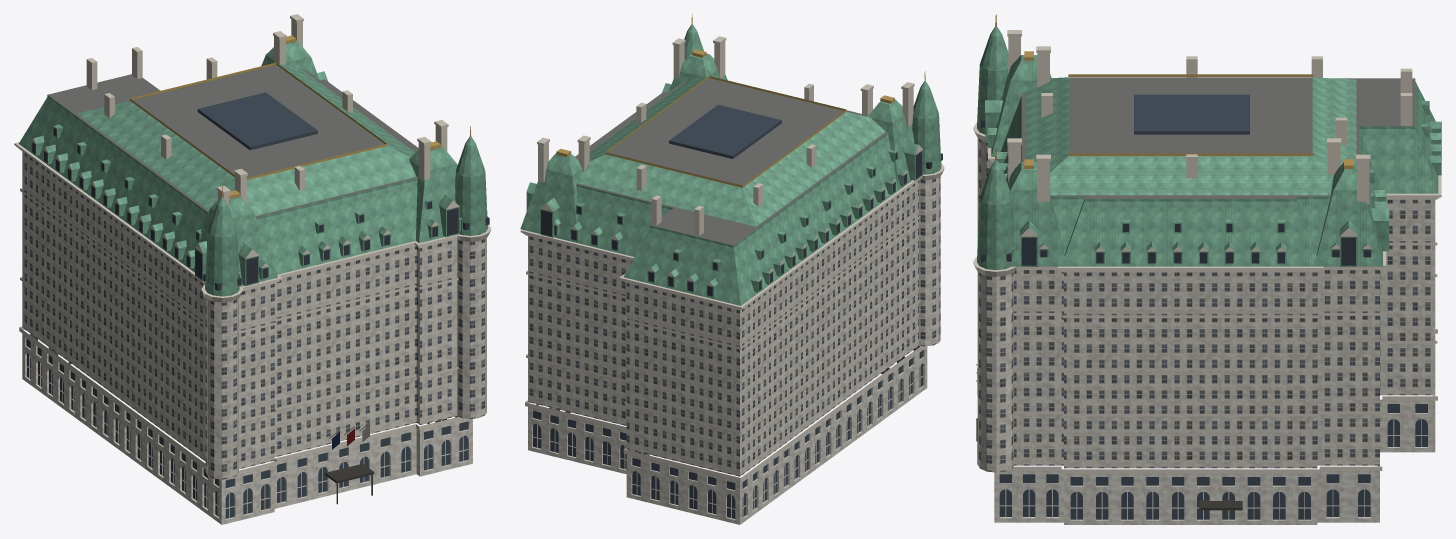
Rendered from plaza_hotel.glb.
The picture shows the model from 3 angles, left to right: view 1: azimuth 30°, elevation 25°; view 2: azimuth 150°, elevation 25°; view 3: azimuth 270°, elevation 25°; orthographic projection. The views are drawn at different scales.
Visible parts, largest first — view 1: plaza_hotel; view 2: plaza_hotel; view 3: plaza_hotel.
Boxes of the visible parts, <box> form: plaza_hotel: <box>14,14,491,524</box>; plaza_hotel: <box>520,14,944,524</box>; plaza_hotel: <box>973,14,1441,524</box>.
Size of the model in its own units: 75.6 by 85.5 by 97.25.
4 materials, 4 textured.
